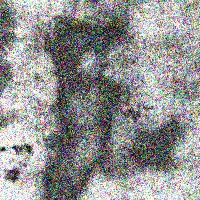patches: (40, 12, 121, 198), (130, 110, 187, 176)
